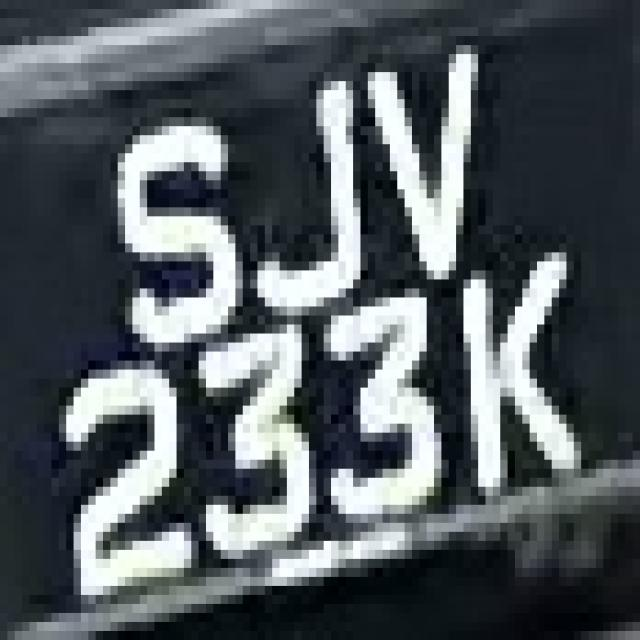2: (52, 342, 214, 613)
3: (162, 297, 331, 586), (309, 270, 456, 568)
J: (228, 72, 361, 325)
K: (427, 243, 581, 514)
S: (88, 126, 243, 361)
V: (353, 45, 515, 298)
